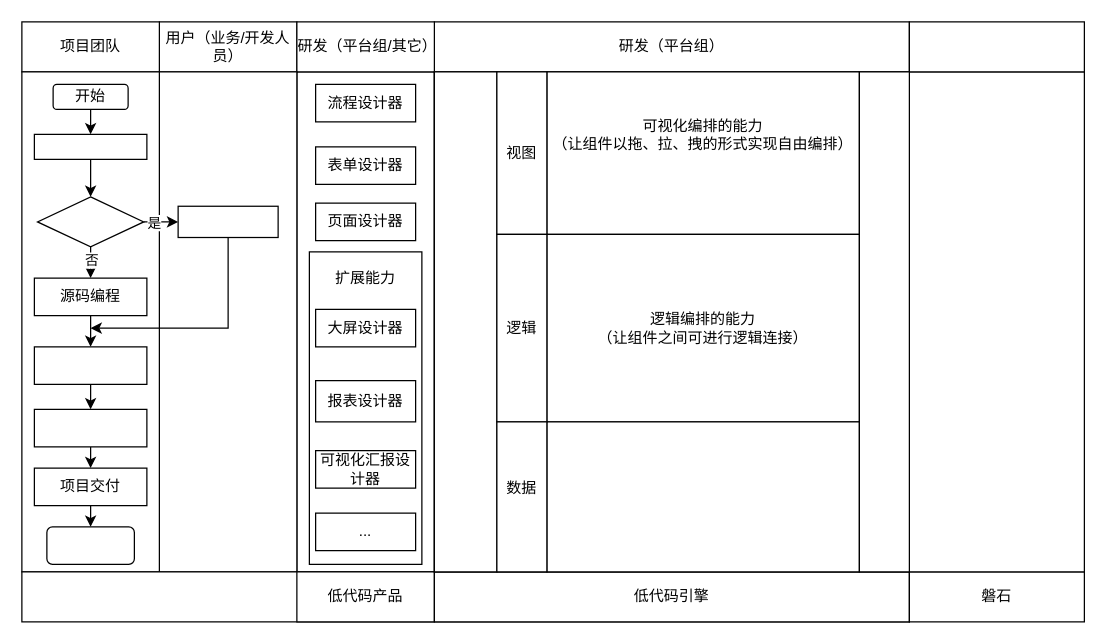
This 1106x644 diagram has some shape labels left out. The shapes that lost their labels are listed below. From the top down, each one's box as (x1, y1, x2, y2) in pixels, then its label:
(33, 133, 147, 159): 需求分析
(36, 196, 144, 247): 低代码业务
(177, 205, 278, 238): 低代码编程
(433, 71, 497, 572): DSL (Schema)
(858, 71, 909, 572): 生态
(33, 346, 147, 384): 功能交付
(33, 408, 147, 447): 项目测试
(46, 526, 134, 564): 结束
